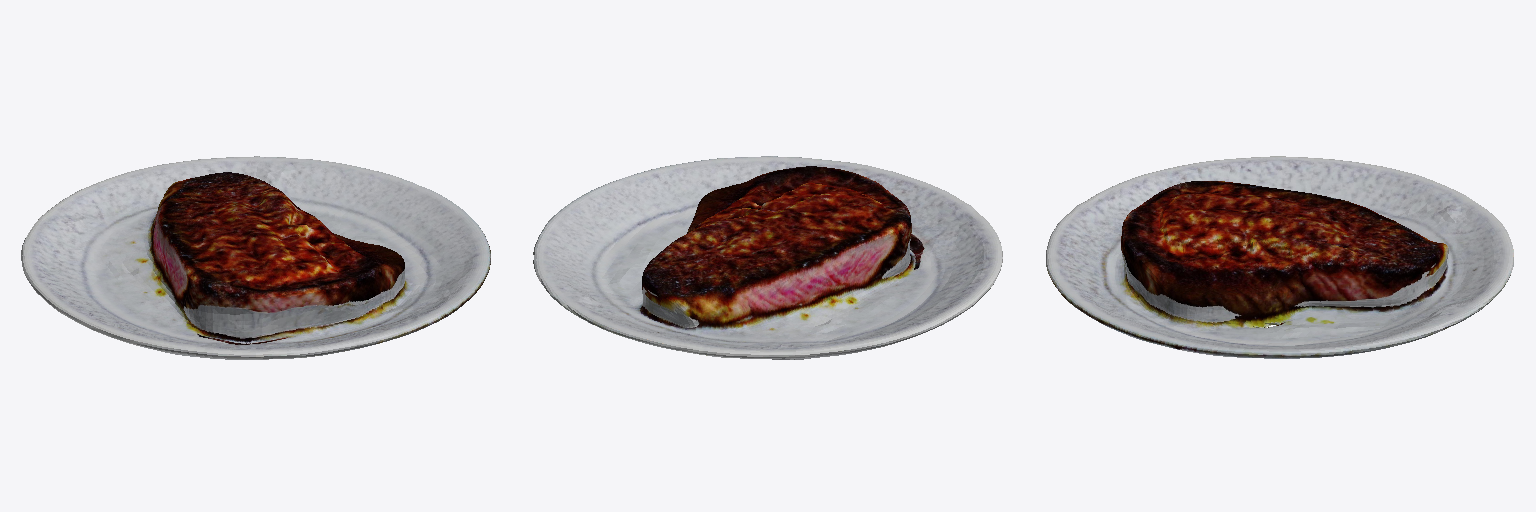
3 renders of one model, left to right at view 1: azimuth 30°, elevation 25°; view 2: azimuth 150°, elevation 25°; view 3: azimuth 270°, elevation 25°, orthographic.
Parts seen in each view (by area): view 1: mesh; view 2: mesh; view 3: mesh.
Part boxes in pixels (left/top/right/bottom): mesh: left=21, top=156, right=490, bottom=359; mesh: left=533, top=156, right=1002, bottom=359; mesh: left=1046, top=156, right=1513, bottom=358.
Size of the model in its own units: 0.9945 by 0.1677 by 0.9956.
Materials: 1 (1 with a texture image).